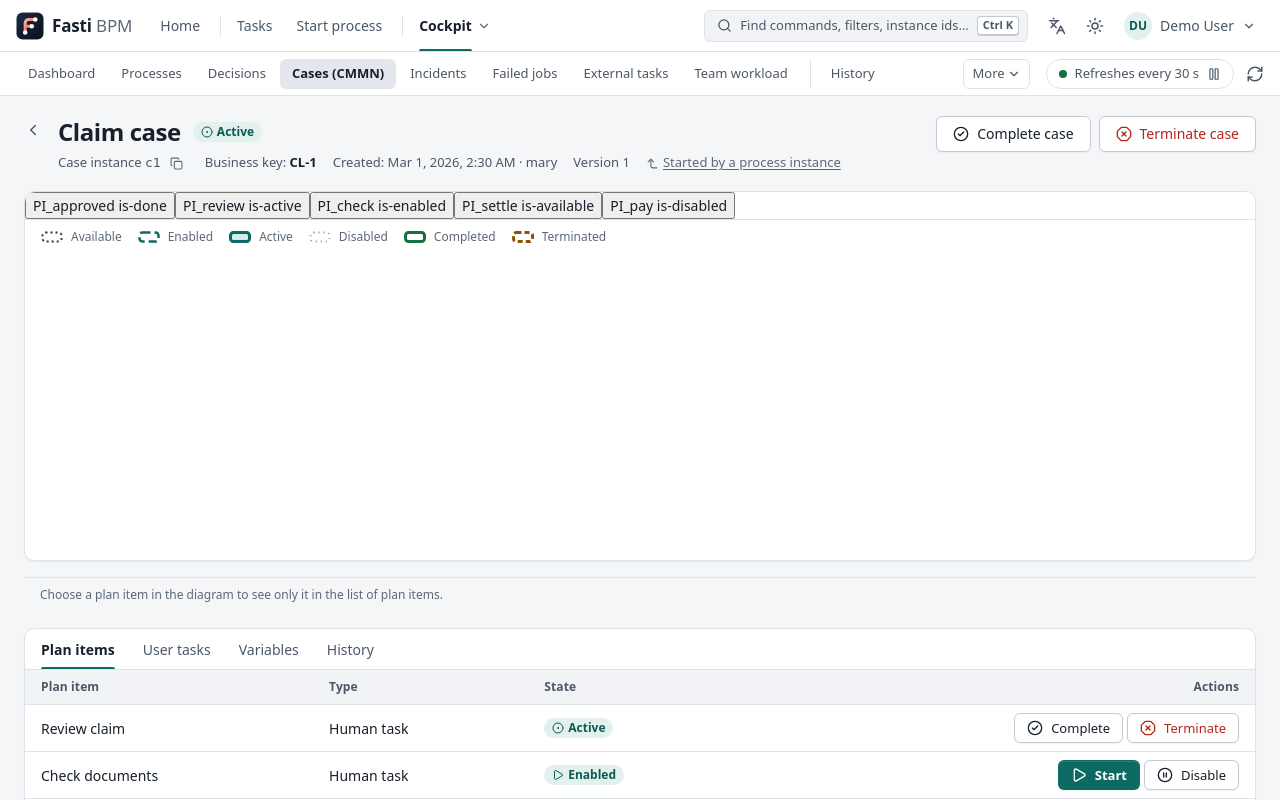
Test: a case instance › shows the plan items in the order of the case with what may be done with them
The image size is (1280, 800).
Later steps or results of the test are not shown.
Expected: the text "Enabled" is shown, [544, 765, 624, 785]
// starting is not confirmed
Click the button with aria-label "Start: Check documents".
click(1099, 775)  # box [1058, 760, 1140, 790]
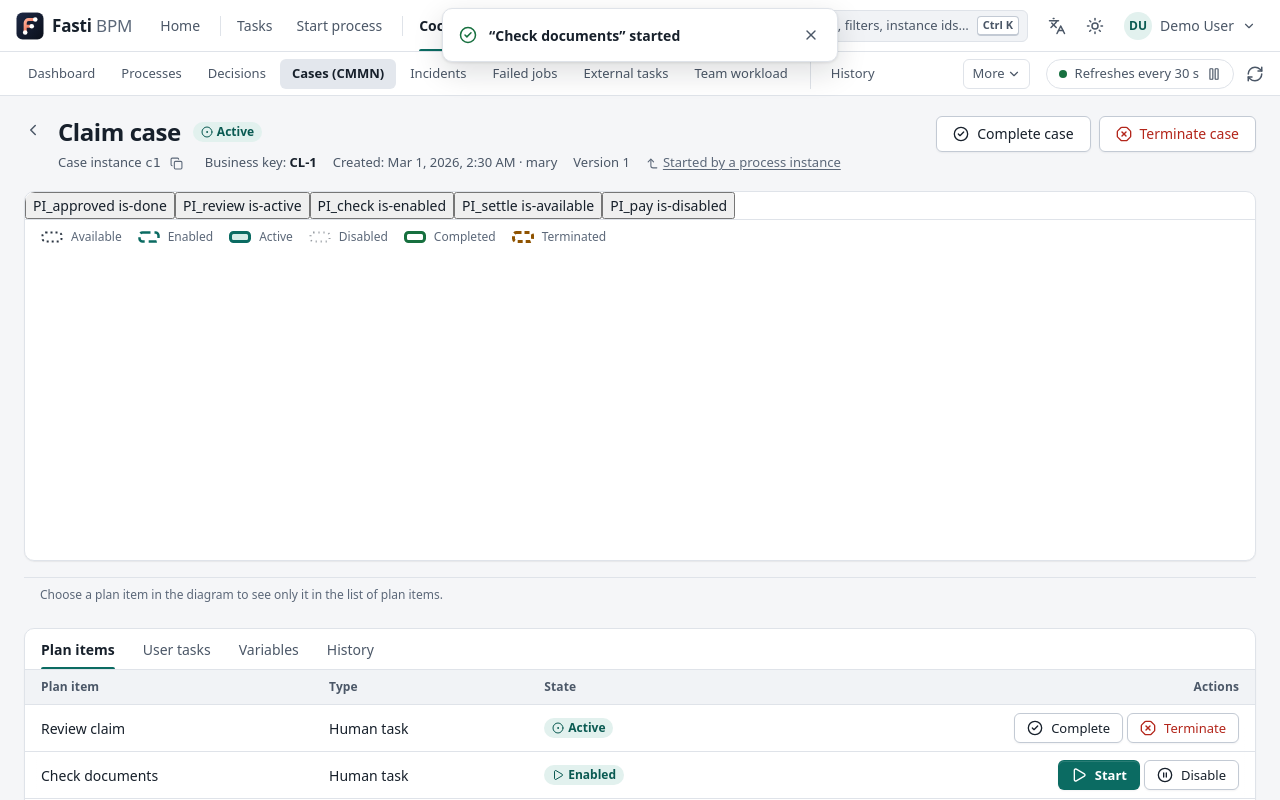
Expected: the text "“Check documents” started" is shown, [489, 26, 680, 44]
// terminating is
Click the button with aria-label "Terminate: Review claim".
click(1183, 728)  # box [1127, 713, 1239, 743]
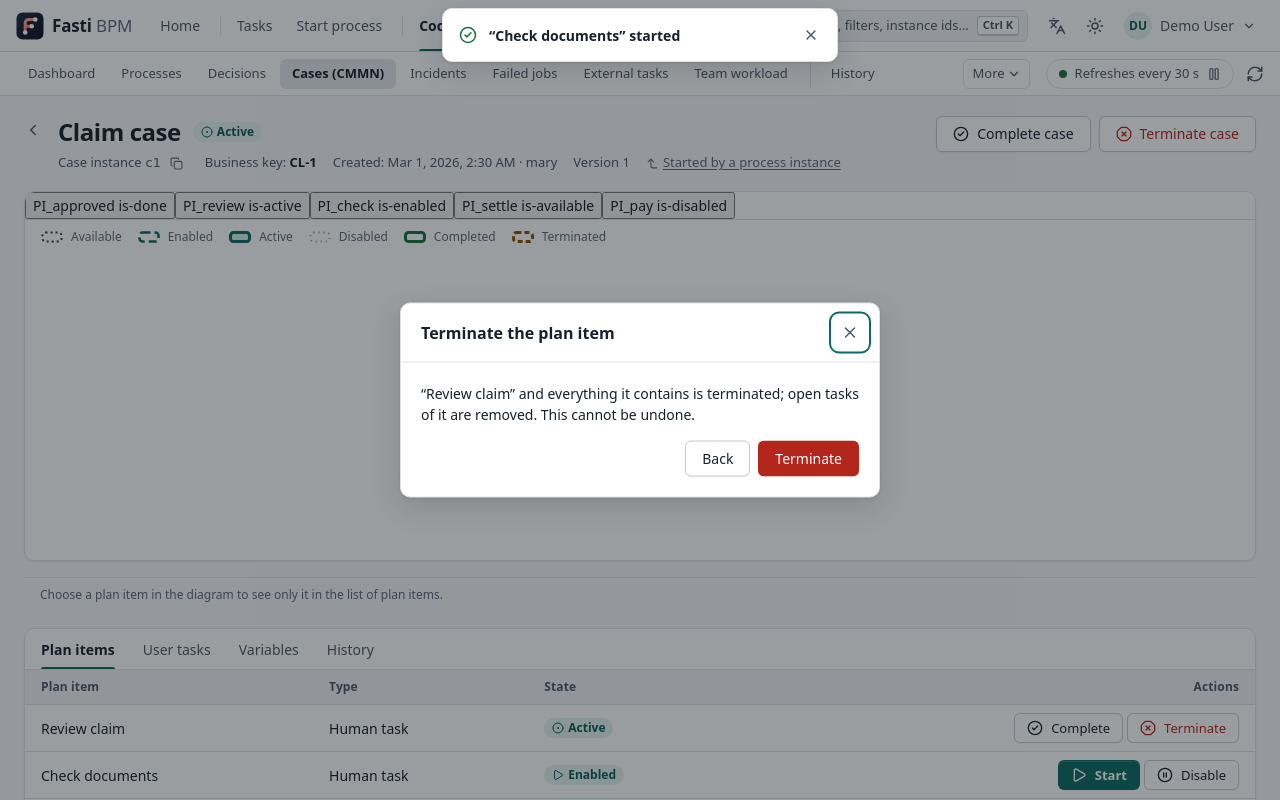
Expected: the dialog "Terminate the plan item" shows "“Review claim” and everything it contains is terminated", [421, 384, 859, 424]
